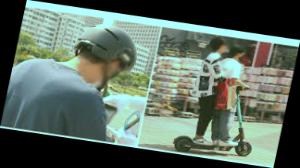multiple: (168, 33, 277, 161)
